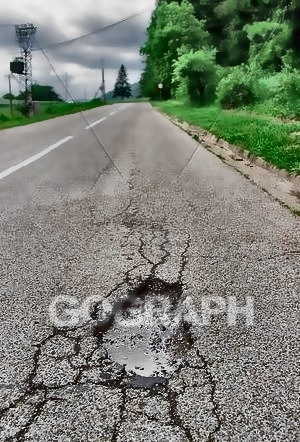pothole: (90, 274, 197, 390)
